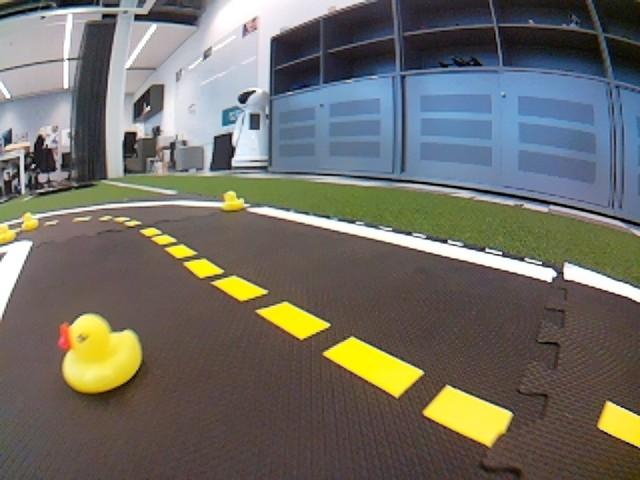Duckies: (60, 313, 143, 395), (220, 191, 245, 211), (0, 223, 16, 244), (21, 213, 39, 230)
